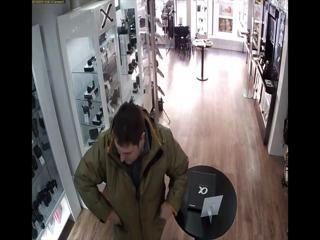Normal: (75, 93, 197, 240)
